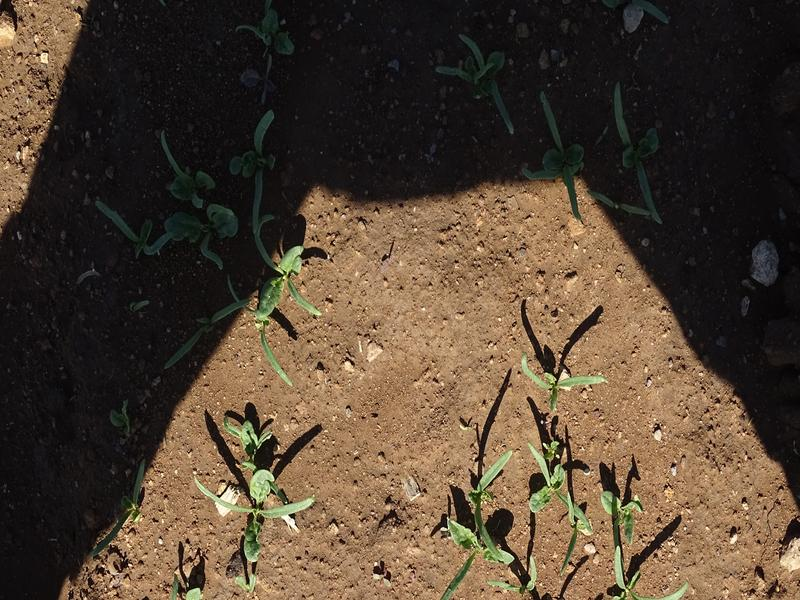Espinaca: (109, 109, 344, 382), (452, 456, 659, 600), (534, 82, 674, 235), (198, 410, 305, 568), (436, 28, 519, 141), (522, 358, 600, 409), (252, 22, 293, 84), (169, 580, 202, 600)
